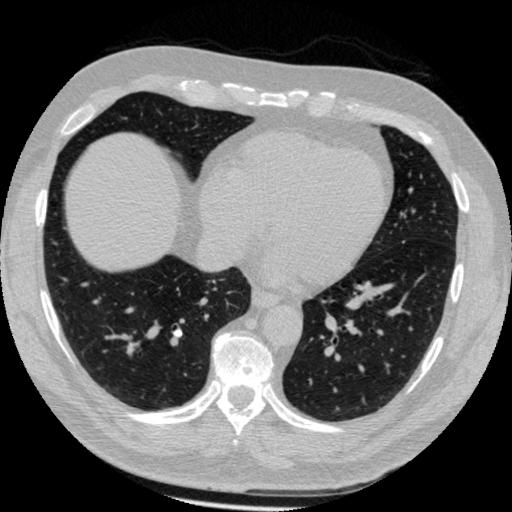nodule: (172, 326, 186, 340)
